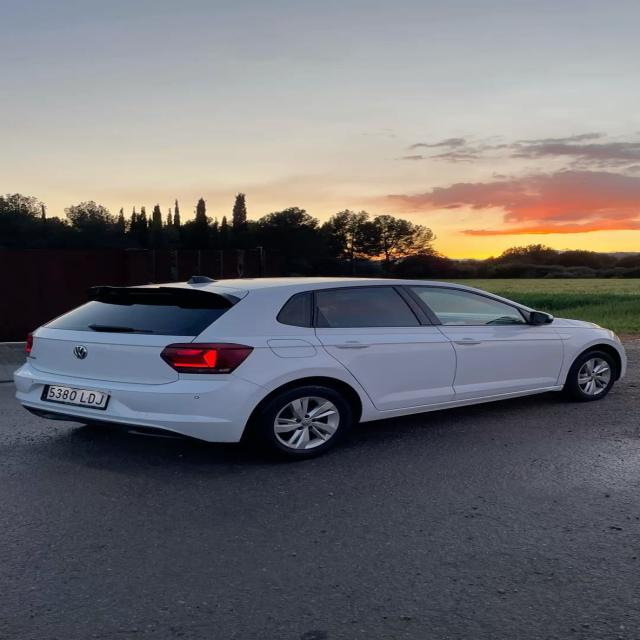Placas: (38, 383, 115, 411)
